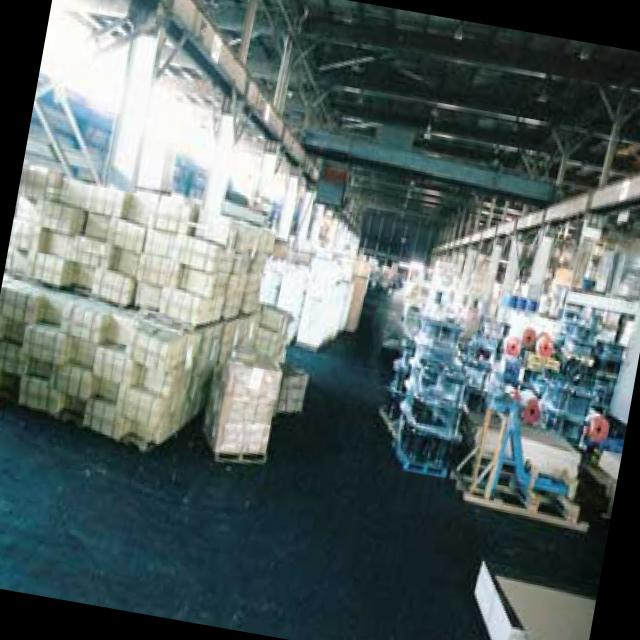ceiling beam: (42, 0, 640, 266)
floor -X: (0, 277, 616, 640)
merchandise: (0, 149, 308, 458), (379, 300, 586, 528), (259, 206, 379, 351)
shelves crop: (412, 231, 640, 451)
wall clock: (21, 64, 277, 229), (376, 250, 422, 290)
